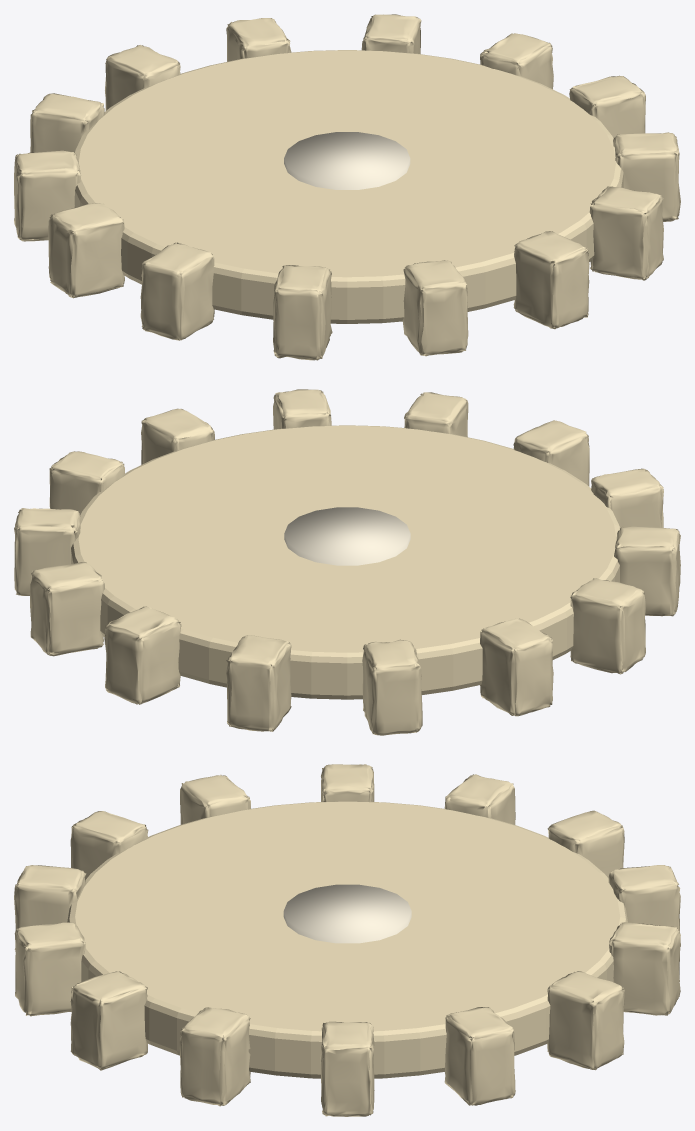
File: gear.glb
3 views of the same model, one above another, from view 1: azimuth 30°, elevation 25°; view 2: azimuth 150°, elevation 25°; view 3: azimuth 270°, elevation 25° (orthographic).
Visible parts, largest first — view 1: gear; view 2: gear; view 3: gear.
Boxes of the visible parts, bbox=[...] form: gear: bbox=[14, 14, 680, 360]; gear: bbox=[14, 389, 680, 735]; gear: bbox=[14, 764, 680, 1116].
Size of the model in its own units: 1.68 by 0.2043 by 1.66.
